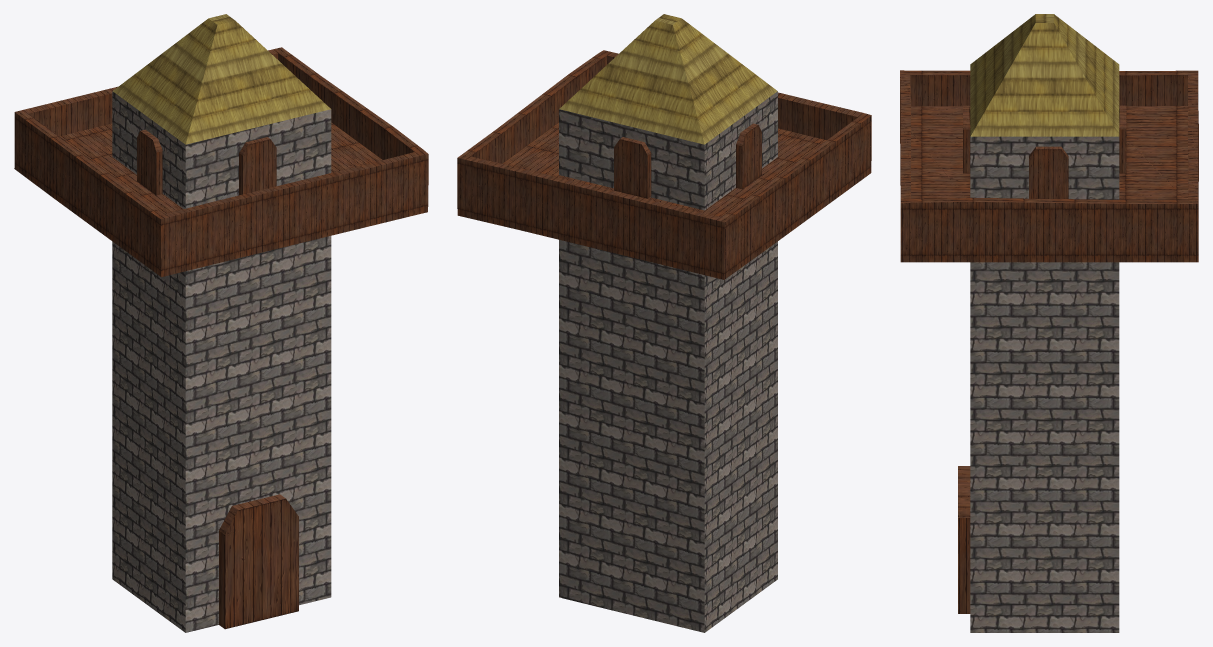
File: WatchTowerTextured.FBX
3 renders of one model, left to right at view 1: azimuth 30°, elevation 25°; view 2: azimuth 150°, elevation 25°; view 3: azimuth 270°, elevation 25°, orthographic.
Parts seen in each view (by area): view 1: Tower; view 2: Tower; view 3: Tower.
Boxes of the visible parts, x1,y1,x2,y2 form: Tower: [14, 14, 428, 632]; Tower: [457, 14, 871, 632]; Tower: [900, 14, 1198, 632].
Size of the model in its own units: 30.84 by 29.31 by 62.58.
Materials: 4 (4 with a texture image).
